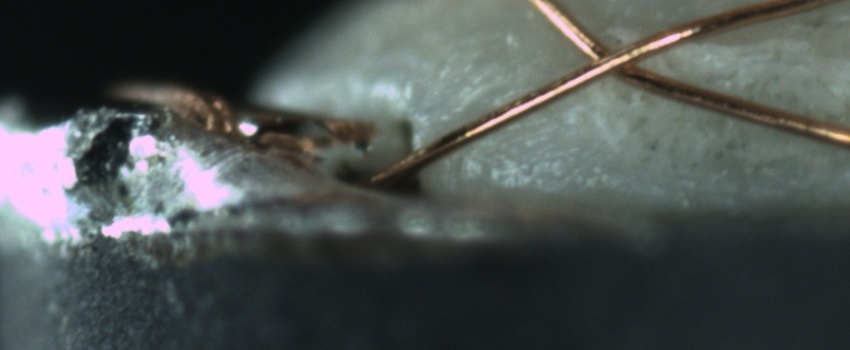CL: (562, 25, 662, 89)
TE: (103, 79, 256, 141)
